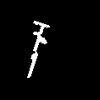double_crochet: (27, 21, 49, 77)
